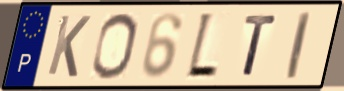6: (139, 10, 184, 81)
I: (284, 9, 313, 82)
K: (44, 13, 93, 80)
L: (183, 9, 220, 82)
O: (90, 10, 140, 81)
T: (241, 13, 280, 78)
